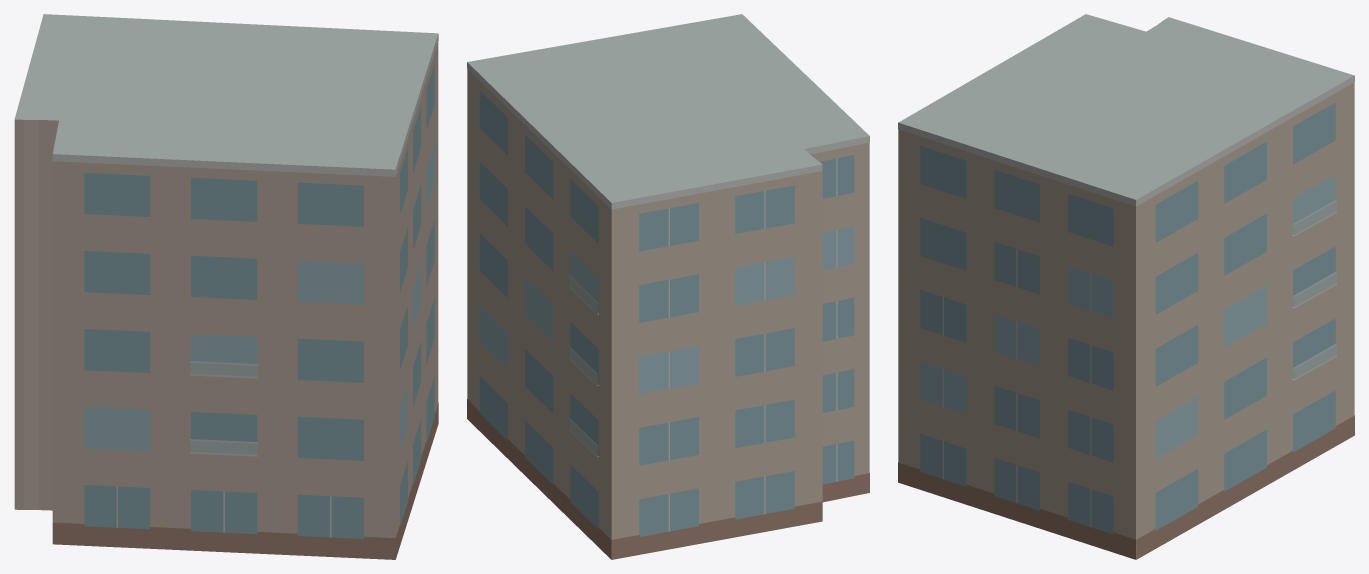
Rendered from survey-upis-32935588.glb.
3 views of the same model, side by side, from view 1: azimuth 30°, elevation 25°; view 2: azimuth 150°, elevation 25°; view 3: azimuth 270°, elevation 25° (orthographic). The views are drawn at different scales.
Visible parts, largest first — view 1: survey-upis-32935588.tmp; view 2: survey-upis-32935588.tmp; view 3: survey-upis-32935588.tmp.
Boxes of the visible parts, x1=… form: survey-upis-32935588.tmp: x1=14, y1=14, x2=438, y2=559; survey-upis-32935588.tmp: x1=467, y1=14, x2=869, y2=559; survey-upis-32935588.tmp: x1=898, y1=14, x2=1354, y2=559.
Bounding box in the file's own units: 14.69 × 13.25 × 15.24.
